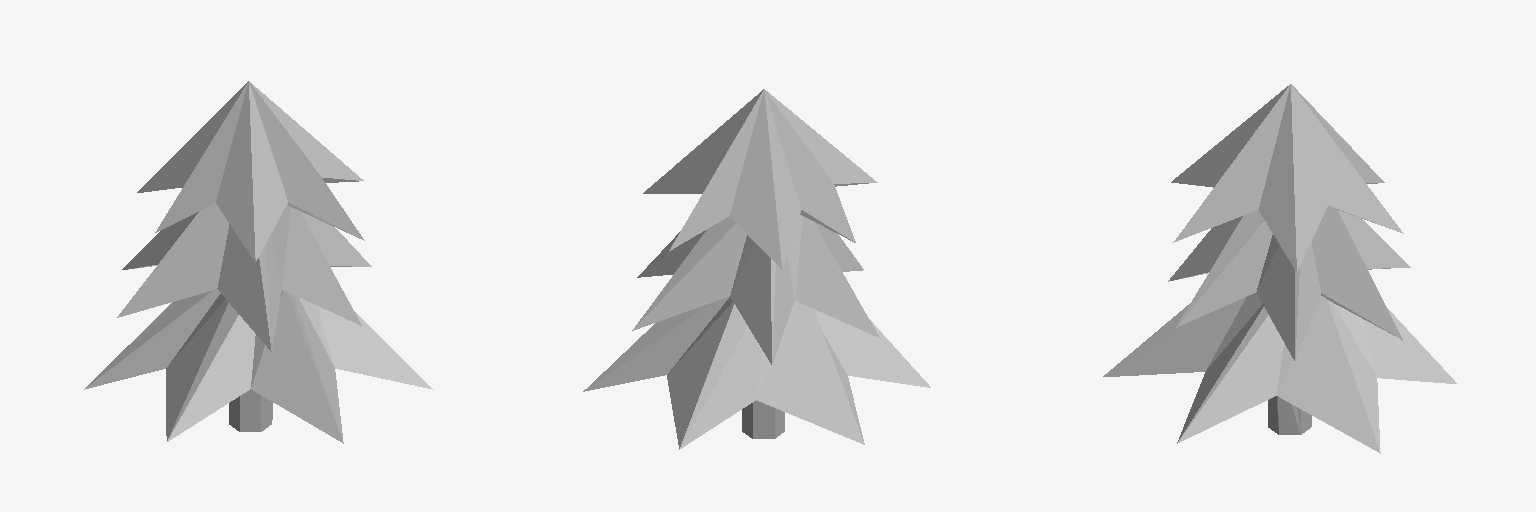
Rendered from SpruceTree3.obj.
3 renders of one model, left to right at view 1: azimuth 30°, elevation 25°; view 2: azimuth 150°, elevation 25°; view 3: azimuth 270°, elevation 25°, orthographic.
Visible parts, largest first — view 1: Tree3; view 2: Tree3; view 3: Tree3.
Part boxes in pixels (x1,y1,x2,y2): Tree3: (84, 81, 432, 443); Tree3: (583, 89, 930, 449); Tree3: (1103, 84, 1456, 453).
Size of the model in its own units: 9.77 by 11.9 by 11.2.